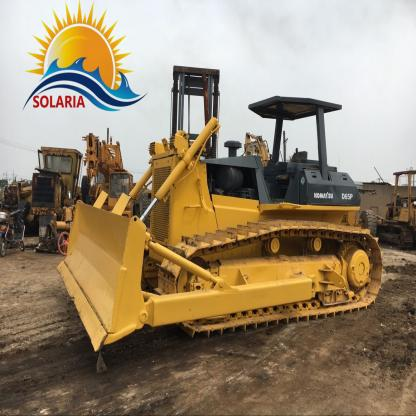bull_dozer/loader/grader: (44, 59, 390, 366)
